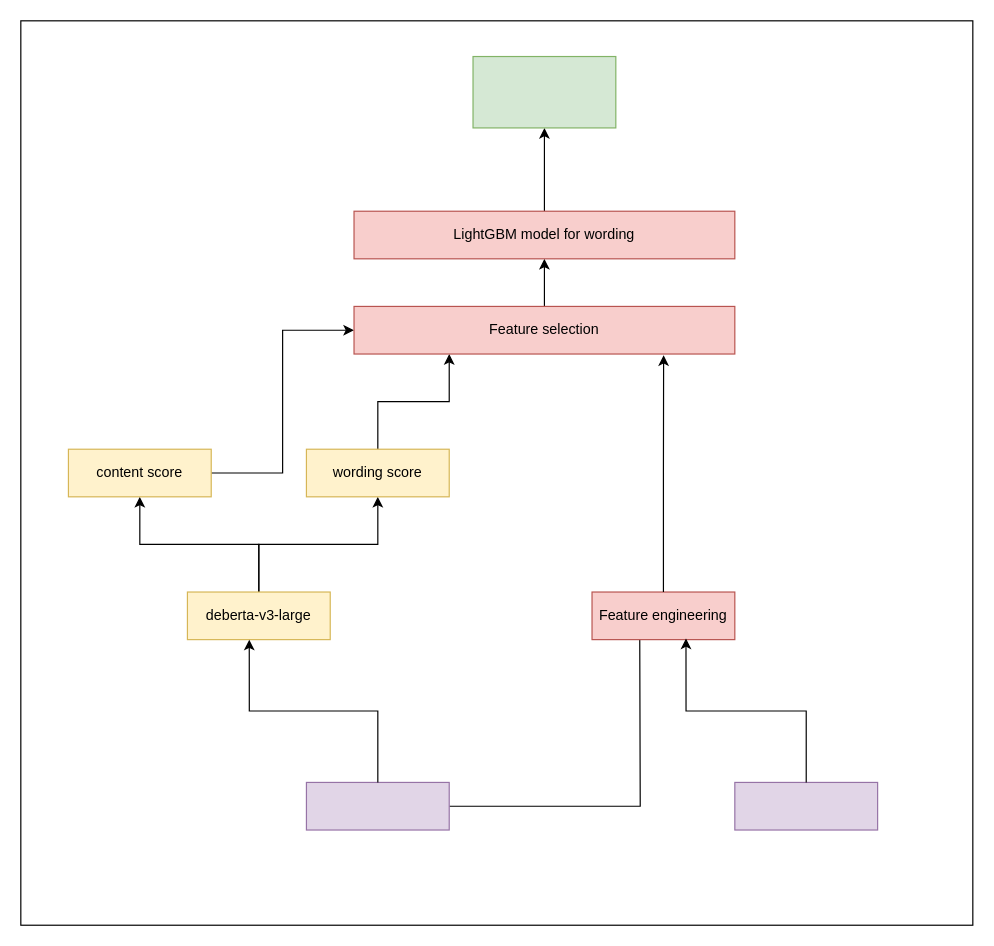
Image size: 994x946. Some labels were removed from this diagram. Here are the shapes that lost their labels. From the top down, the centre of each, then its label:
At point (544, 91): "Wording prediction".
At point (377, 805): "summary".
At point (806, 805): "prompt_text".
